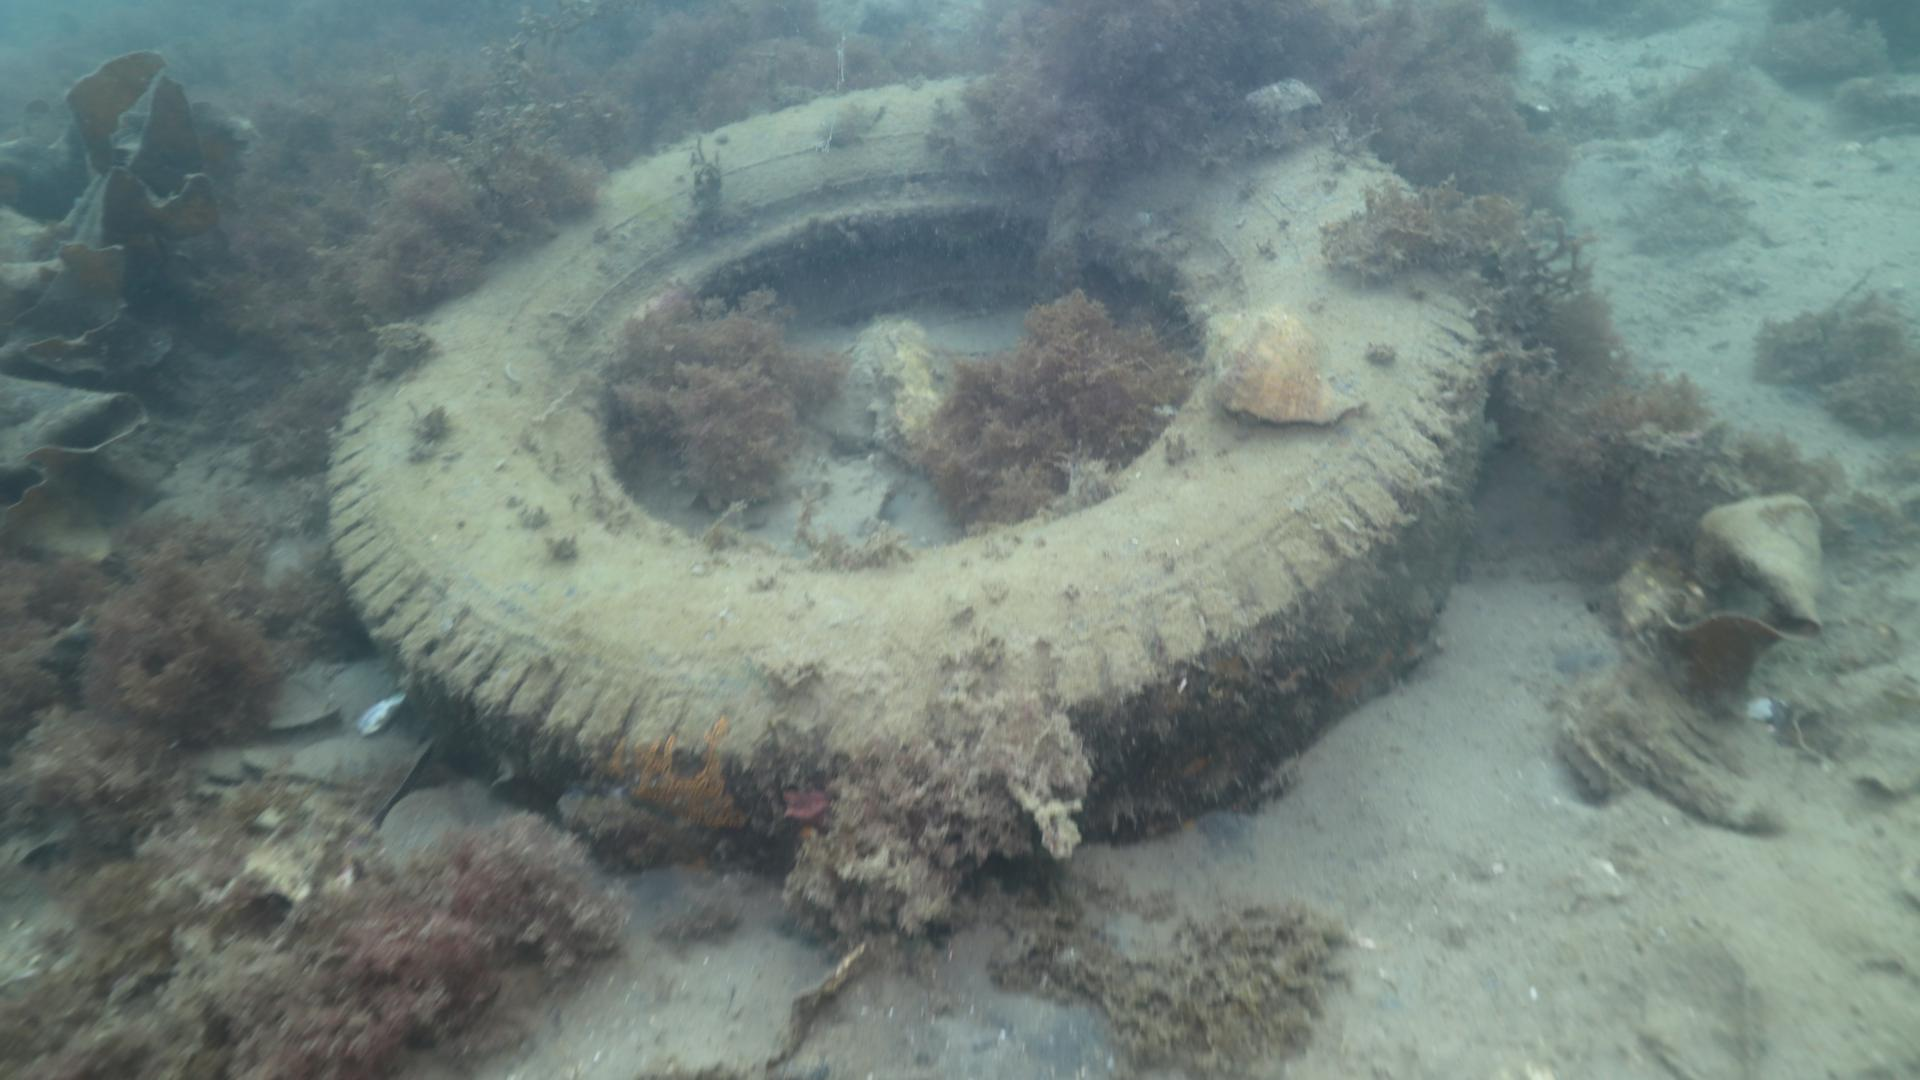tire: (324, 70, 1491, 880)
